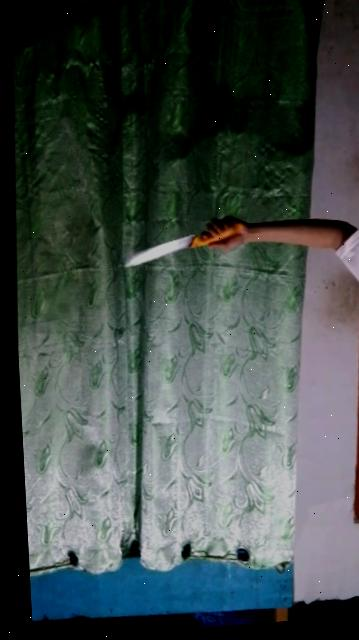long knife: (111, 214, 245, 275)
